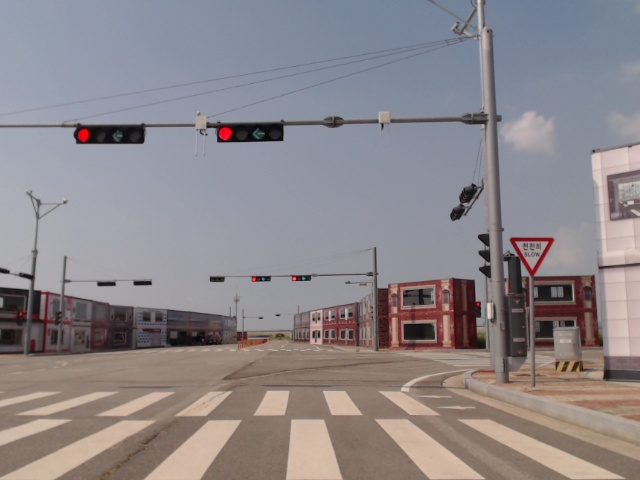left_green_4: (77, 127, 143, 143), (217, 125, 282, 141)
